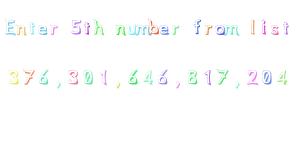,: (52, 79, 66, 92), (171, 79, 185, 91), (230, 79, 242, 92), (112, 80, 121, 94)
0: (260, 68, 276, 90), (82, 66, 96, 87)
1: (97, 66, 110, 87), (202, 67, 214, 88)
2: (246, 68, 260, 88)
3: (7, 64, 21, 91), (66, 64, 81, 88)
4: (275, 66, 292, 88), (142, 64, 155, 88)
5: (68, 17, 83, 38)
6: (125, 65, 141, 88), (39, 62, 51, 90), (156, 66, 171, 88)
7: (21, 64, 38, 92), (216, 66, 229, 89)
8: (185, 66, 201, 87)
E: (2, 14, 16, 39)
b: (148, 15, 159, 40)
e: (158, 20, 170, 39), (37, 24, 48, 38)
f: (190, 16, 204, 42)
h: (93, 16, 106, 40)
i: (259, 18, 270, 38)
l: (245, 14, 258, 39)
m: (225, 21, 244, 39), (136, 20, 148, 39)
n: (17, 16, 28, 41), (113, 20, 125, 40)
o: (214, 23, 226, 36)
r: (170, 20, 182, 40), (203, 20, 214, 39), (49, 19, 58, 39)
s: (269, 23, 281, 40)
t: (280, 20, 293, 37), (28, 18, 37, 38), (82, 20, 92, 38)
u: (126, 21, 137, 41)
